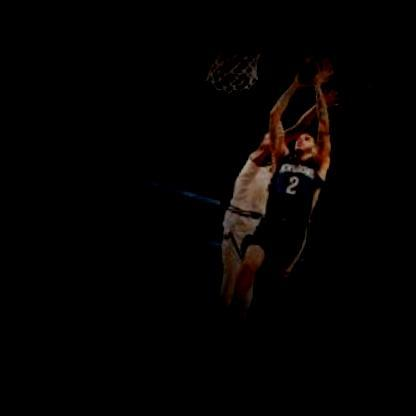basketball: (299, 46, 338, 82)
